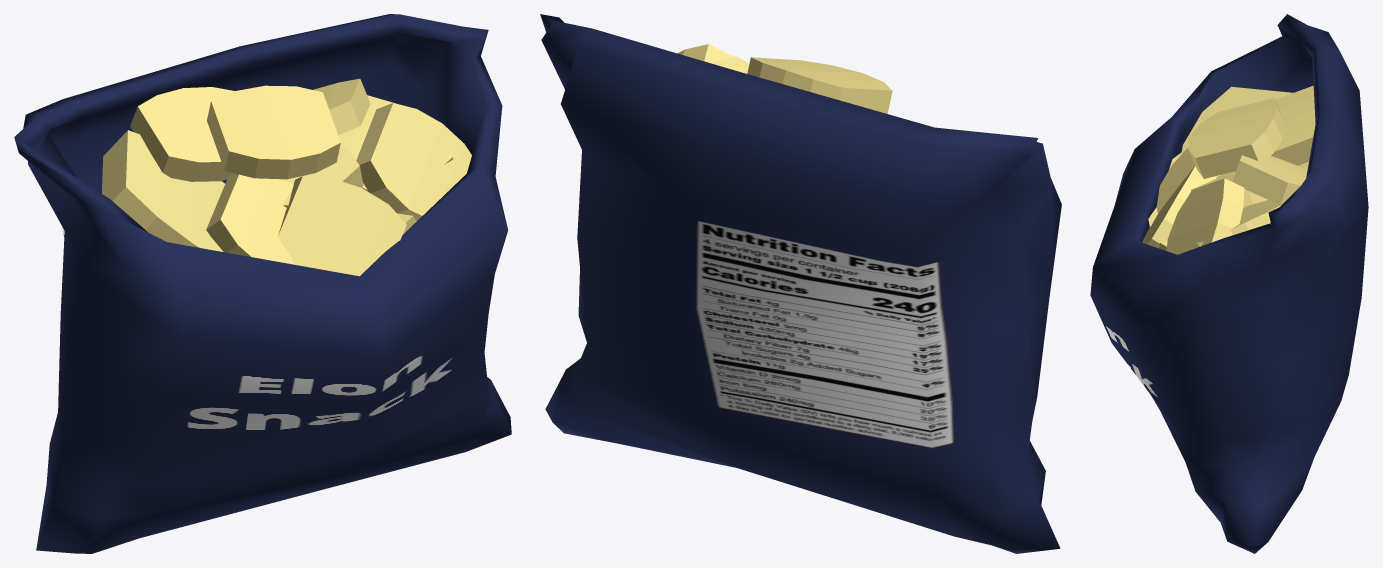
Rendered from Snack_open.fbx.
3 renders of one model, left to right at view 1: azimuth 30°, elevation 25°; view 2: azimuth 150°, elevation 25°; view 3: azimuth 270°, elevation 25°, orthographic. The views are drawn at different scales.
Visible parts, largest first — view 1: ChipOpen; view 2: ChipOpen; view 3: ChipOpen.
Part boxes in pixels (left/top/right/bottom): ChipOpen: left=14, top=14, right=511, bottom=553; ChipOpen: left=540, top=14, right=1061, bottom=553; ChipOpen: left=1090, top=14, right=1368, bottom=553.
Size of the model in its own units: 30.98 by 26.43 by 18.1.
